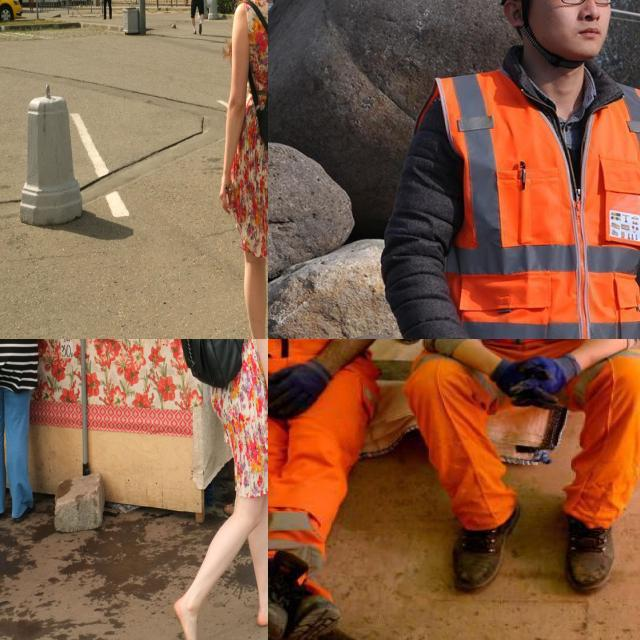Barefoots: (173, 597, 203, 640), (257, 600, 268, 627)
No_Ear-Protection: (499, 0, 528, 32)
face_nomask: (522, 0, 621, 53)
glasses: (552, 0, 623, 12)
hand_glove: (483, 348, 582, 411), (268, 356, 336, 417)
person: (378, 0, 640, 339), (406, 339, 640, 587), (268, 339, 370, 614)
shoes: (440, 483, 527, 597), (557, 490, 626, 594), (268, 564, 294, 640)
vest: (452, 71, 640, 339)
